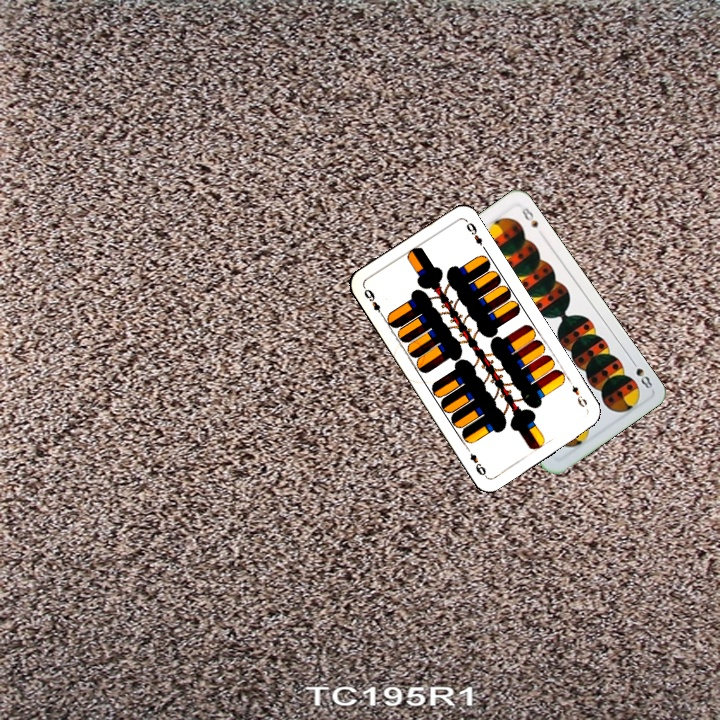E9: (360, 283, 386, 320), (565, 376, 590, 410)
S8: (627, 355, 655, 391)
